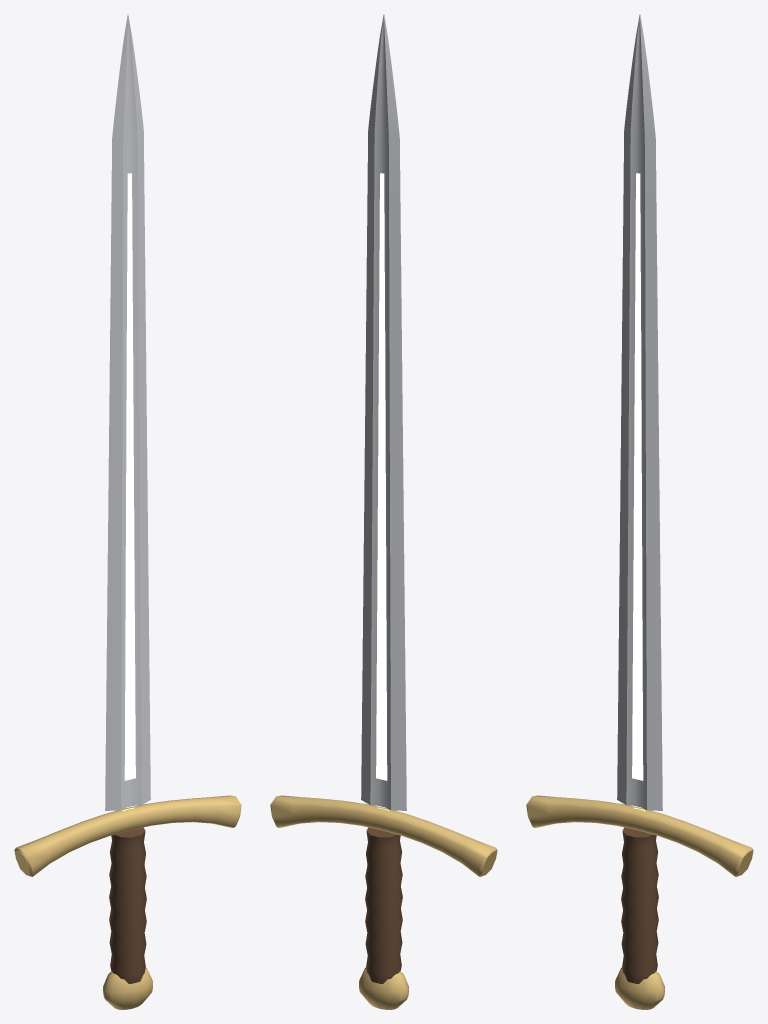
File: runed_sword.glb
The picture shows the model from 3 angles, left to right: view 1: azimuth 30°, elevation 25°; view 2: azimuth 150°, elevation 25°; view 3: azimuth 330°, elevation 25°; orthographic projection.
Visible parts, largest first — view 1: runed_sword; view 2: runed_sword; view 3: runed_sword.
Boxes of the visible parts, x1,y1,x2,y2 form: runed_sword: (14, 14, 241, 1009); runed_sword: (270, 14, 497, 1009); runed_sword: (526, 14, 753, 1009).
Bounding box in the file's own units: 0.2482 × 1.08 × 0.0356.
